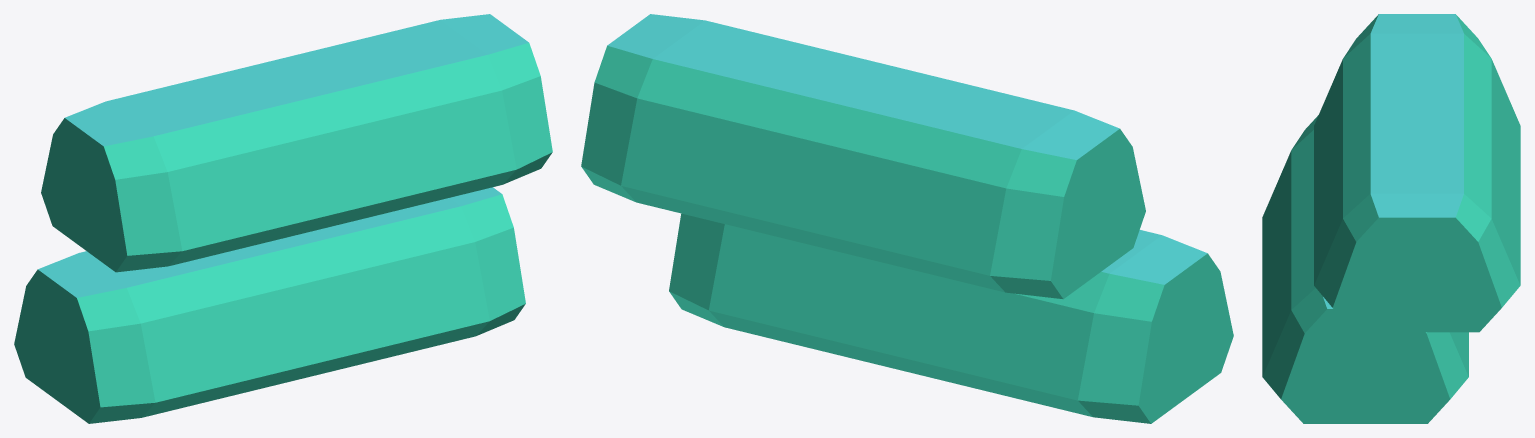
File: luminite_bar.glb
The picture shows the model from 3 angles, left to right: view 1: azimuth 30°, elevation 25°; view 2: azimuth 150°, elevation 25°; view 3: azimuth 270°, elevation 25°; orthographic projection. The views are drawn at different scales.
Visible parts, largest first — view 1: luminite_bar_v0; view 2: luminite_bar_v0; view 3: luminite_bar_v0.
Part boxes in pixels (x1,y1,x2,y2): luminite_bar_v0: (14, 14, 552, 423); luminite_bar_v0: (581, 14, 1233, 423); luminite_bar_v0: (1262, 14, 1520, 423).
Bounding box in the file's own units: 0.315 × 0.15 × 0.15.
